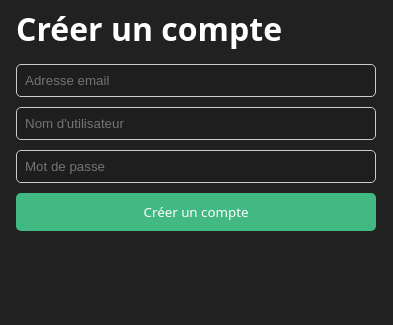
Register.vue › should show error when email is not valid
This screenshot has width=393, height=325.
Type "test" into the field with test id "register-email" at coordinates (196, 81), box [16,64,376,97]
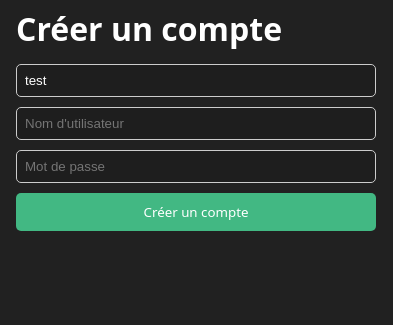
Type "test" into the field with test id "register-username" at coordinates (196, 124), box [16,107,376,140]
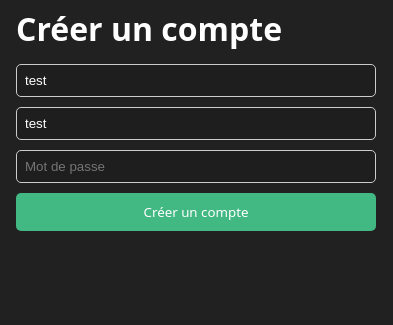
Type "test" into the password field with test id "register-password" at coordinates (196, 167), box [16,150,376,183]
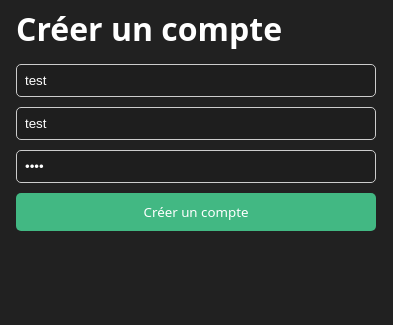
Submit the form, box [16,64,376,231]
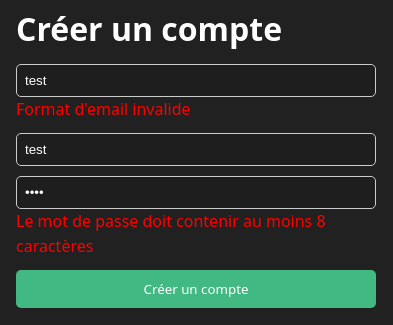
Now the text "Format d'email invalide" is shown, box [16,98,191,120]
